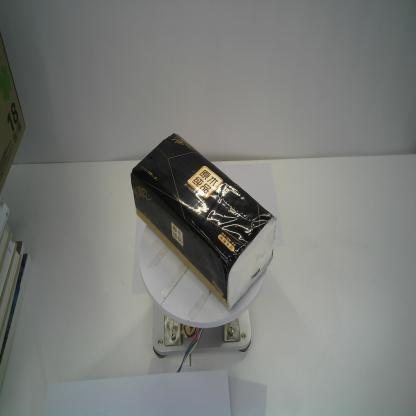Tissue: (130, 132, 278, 313)
